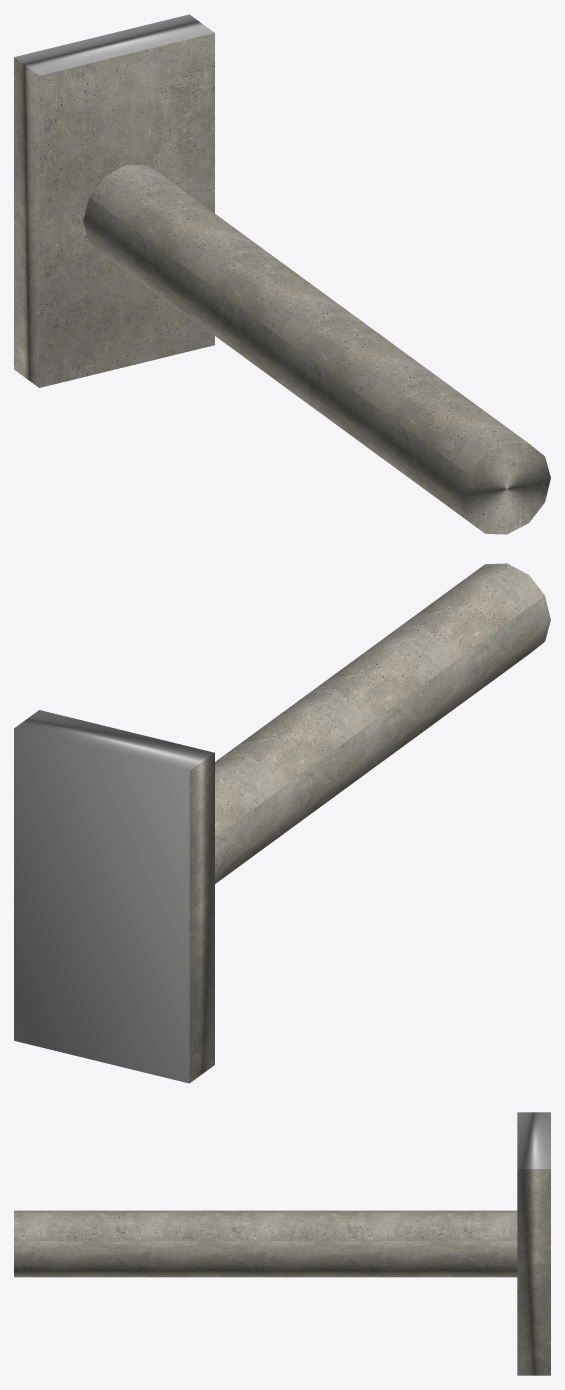
File: pillar.DAE
The picture shows the model from 3 angles, top to bottom: view 1: azimuth 30°, elevation 25°; view 2: azimuth 150°, elevation 25°; view 3: azimuth 270°, elevation 25°; orthographic projection. The views are drawn at different scales.
Visible parts, largest first — view 1: adventureplaygound01a; view 2: adventureplaygound01a; view 3: adventureplaygound01a.
Boxes of the visible parts, x1,y1,x2,y2 form: adventureplaygound01a: [14, 14, 550, 534]; adventureplaygound01a: [14, 563, 550, 1083]; adventureplaygound01a: [14, 1112, 550, 1375].
Size of the model in its own units: 78.74 by 134 by 315.
